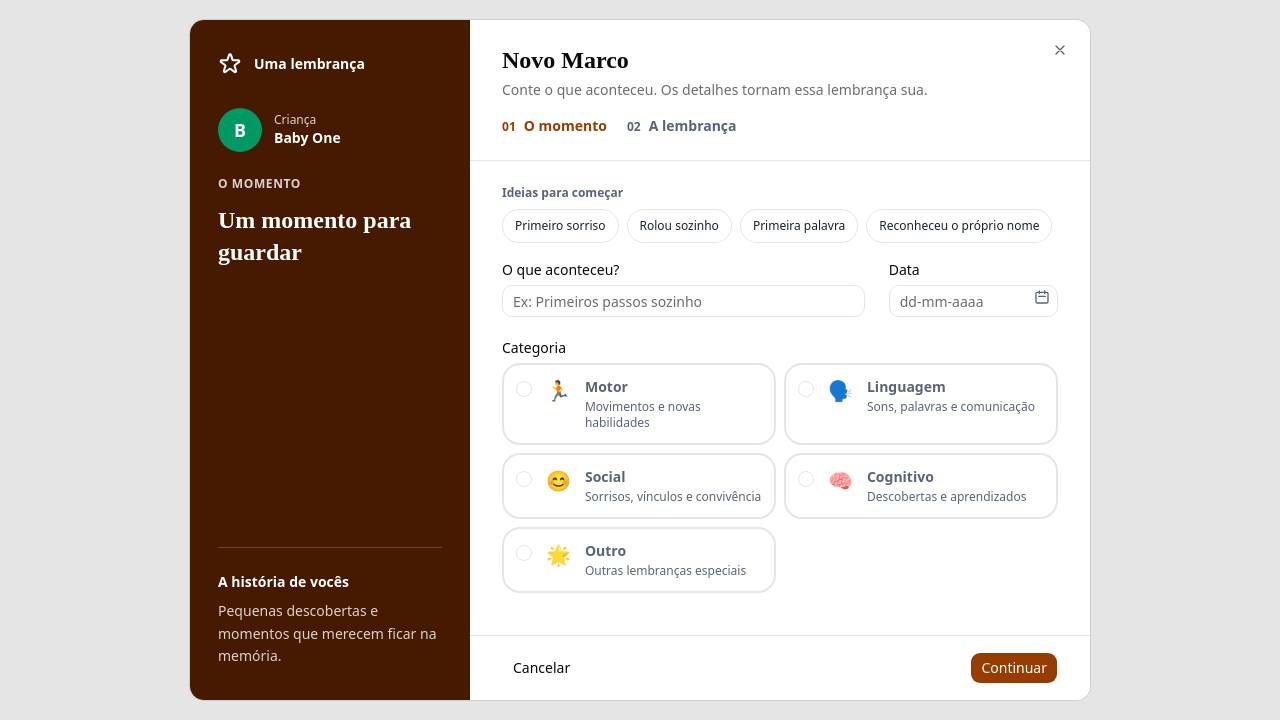
Test case: AddMilestoneDialog suggestions and photo › fills an empty title and its category from a suggestion at once
Click the button "Primeira palavra" at (799, 226), box [740, 209, 858, 243]
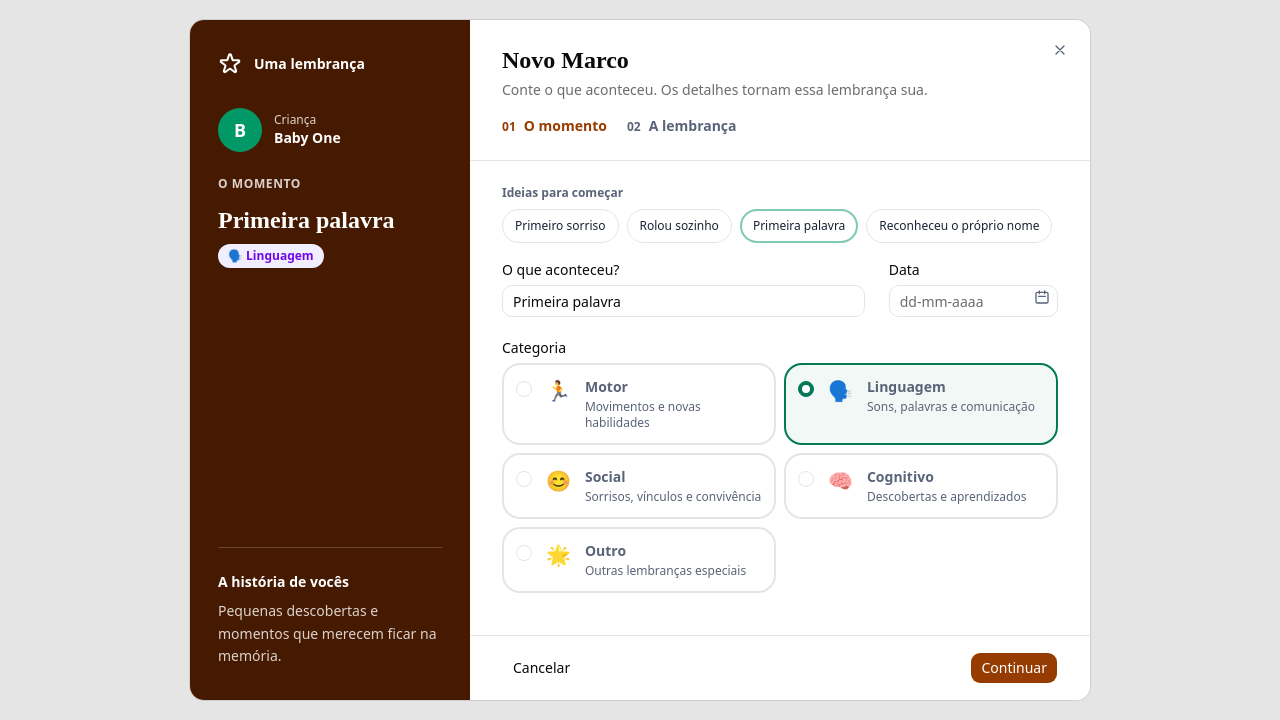
Result: the field labelled "O que aconteceu?" holds "Primeira palavra" at [502, 285, 865, 317]
Result: the 2nd radio button named "Linguagem" is checked at [798, 381, 814, 397]
